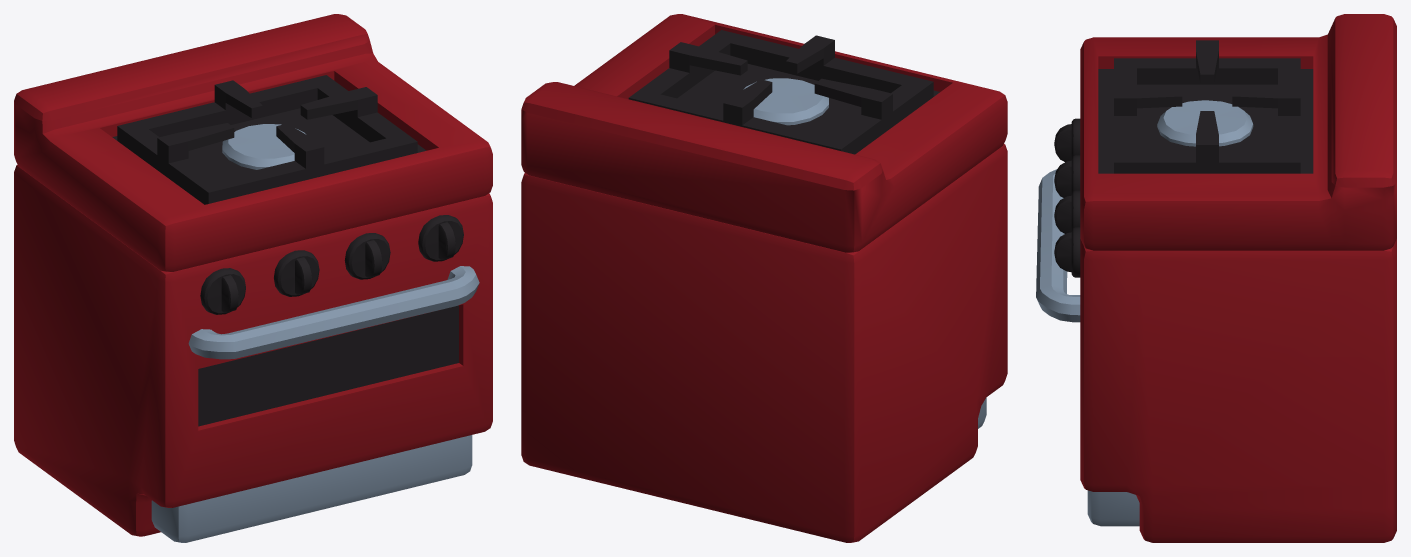
File: sushi-Environment_Oven.glb
3 renders of one model, left to right at view 1: azimuth 30°, elevation 25°; view 2: azimuth 150°, elevation 25°; view 3: azimuth 270°, elevation 25°, orthographic. The views are drawn at different scales.
Parts seen in each view (by area): view 1: Environment_Oven; view 2: Environment_Oven; view 3: Environment_Oven.
Part boxes in pixels (<box>): Environment_Oven: <box>14,14,492,542</box>; Environment_Oven: <box>521,14,1007,542</box>; Environment_Oven: <box>1036,14,1396,542</box>.
Size of the model in its own units: 2.14 by 2.23 by 1.96.
1 material, 1 textured.
